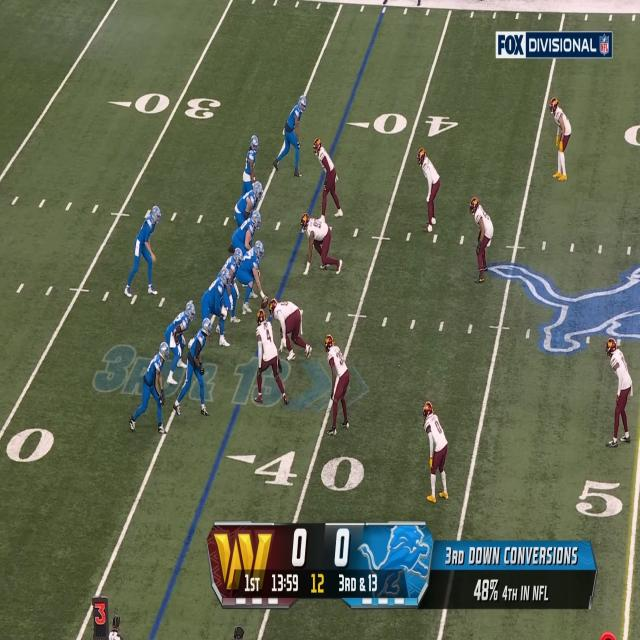Ball: (260, 295, 268, 309)
